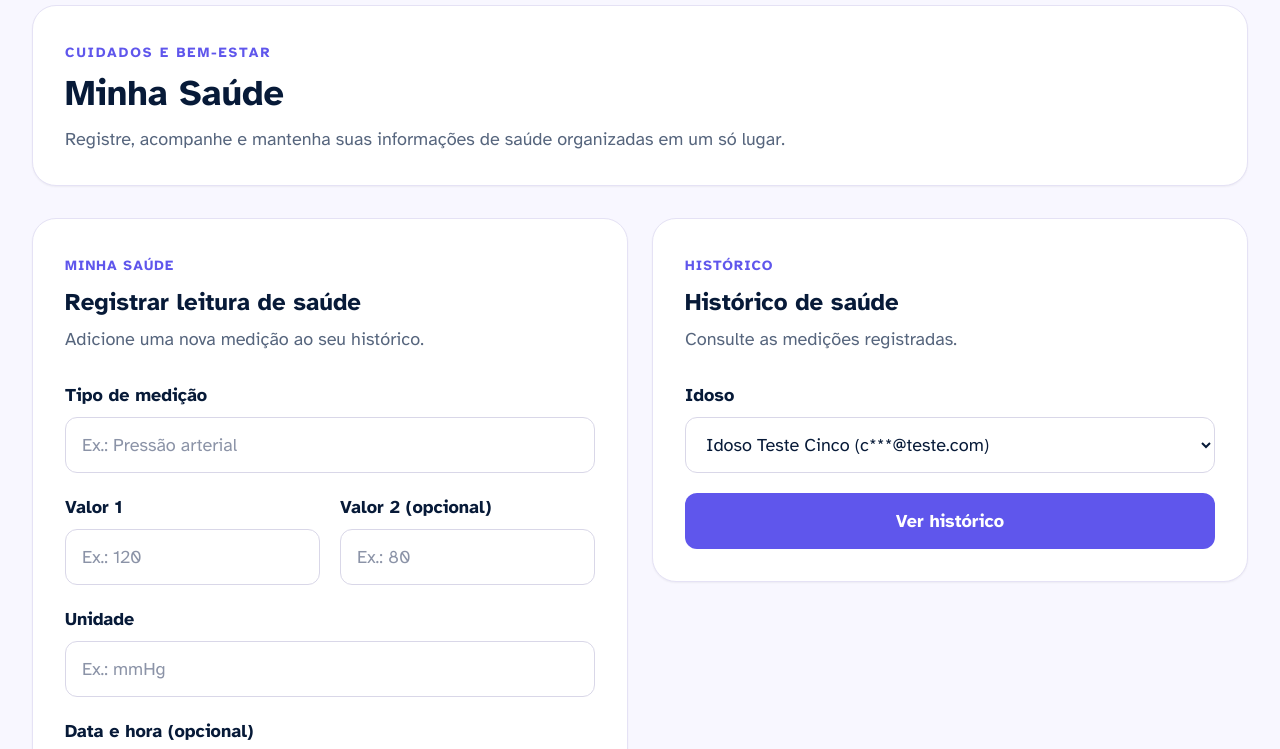
Scenario: Saude — acessibilidade do registro próprio › exibe erro com role alert
The image size is (1280, 749).
Type "peso" into the field labelled "Tipo de medição" at {"x": 330, "y": 445}, box [65,417,595,473]
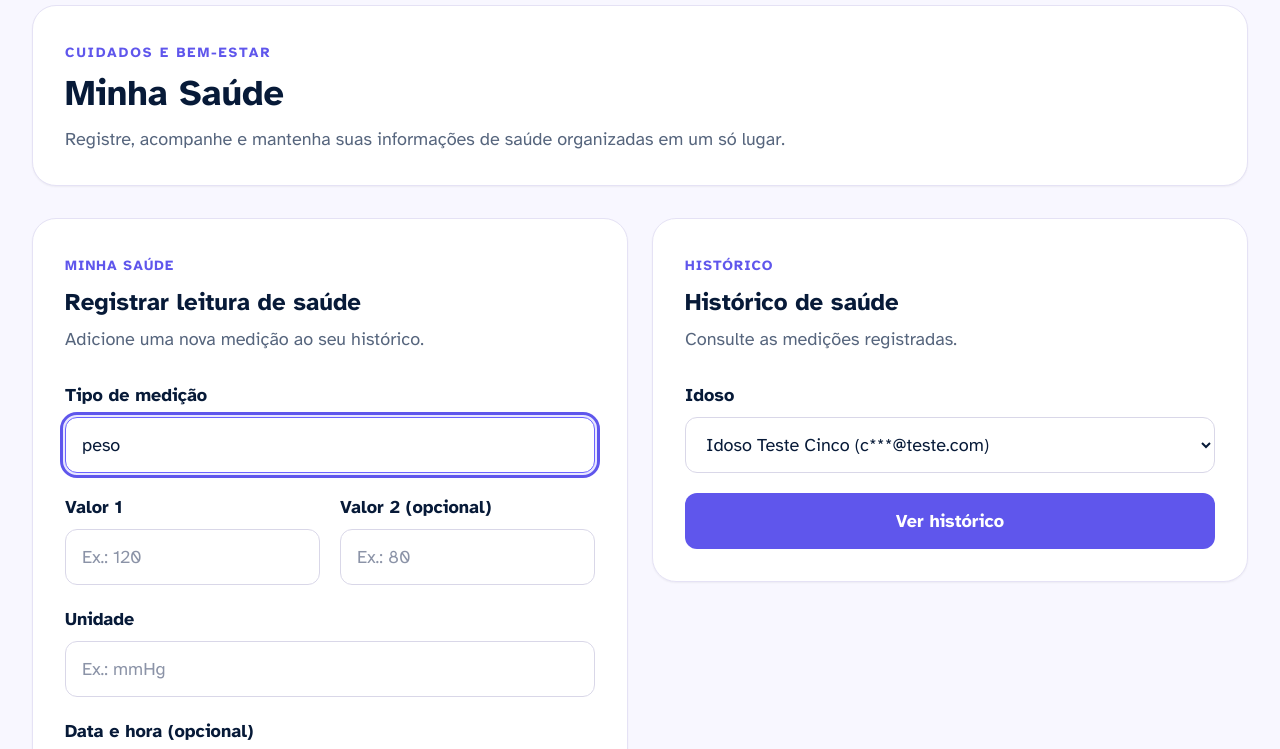
Type "70" into the number field labelled "Valor 1" at {"x": 192, "y": 557}, box [65,529,320,585]
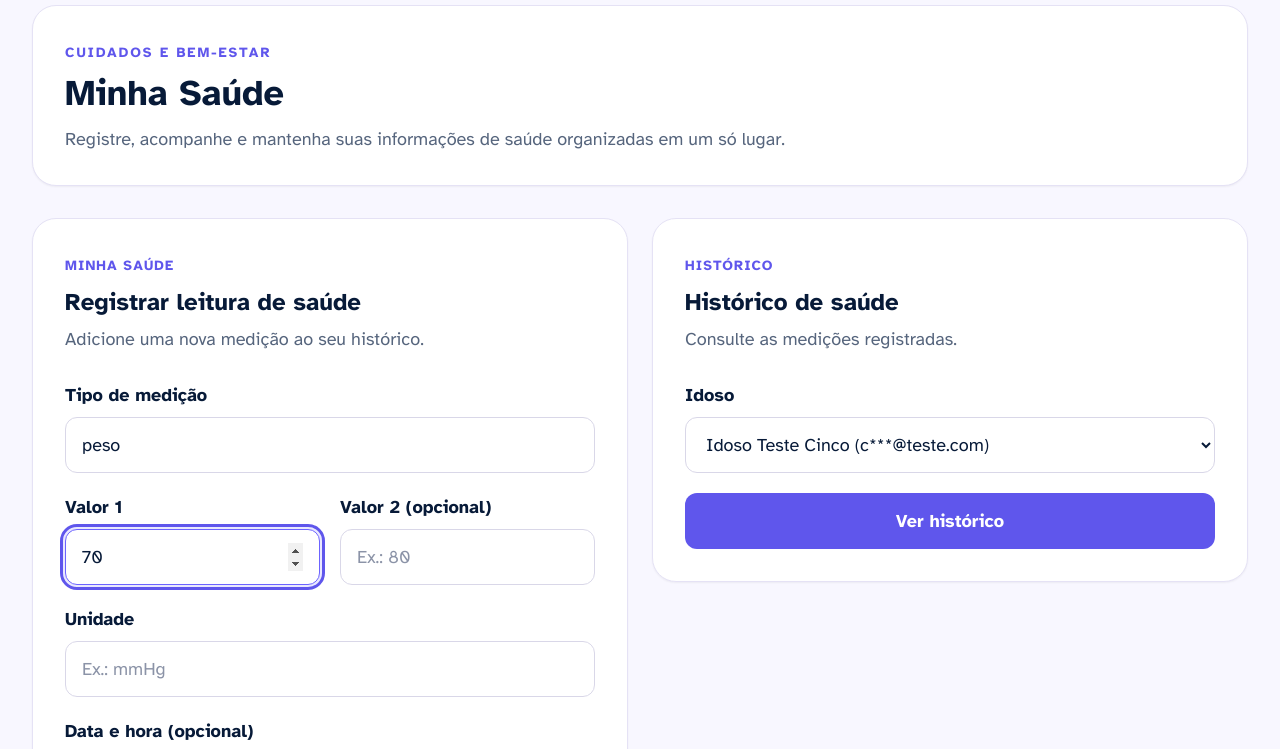
Type "kg" into the field labelled "Unidade" at {"x": 330, "y": 669}, box [65,641,595,697]
(page scrolled)
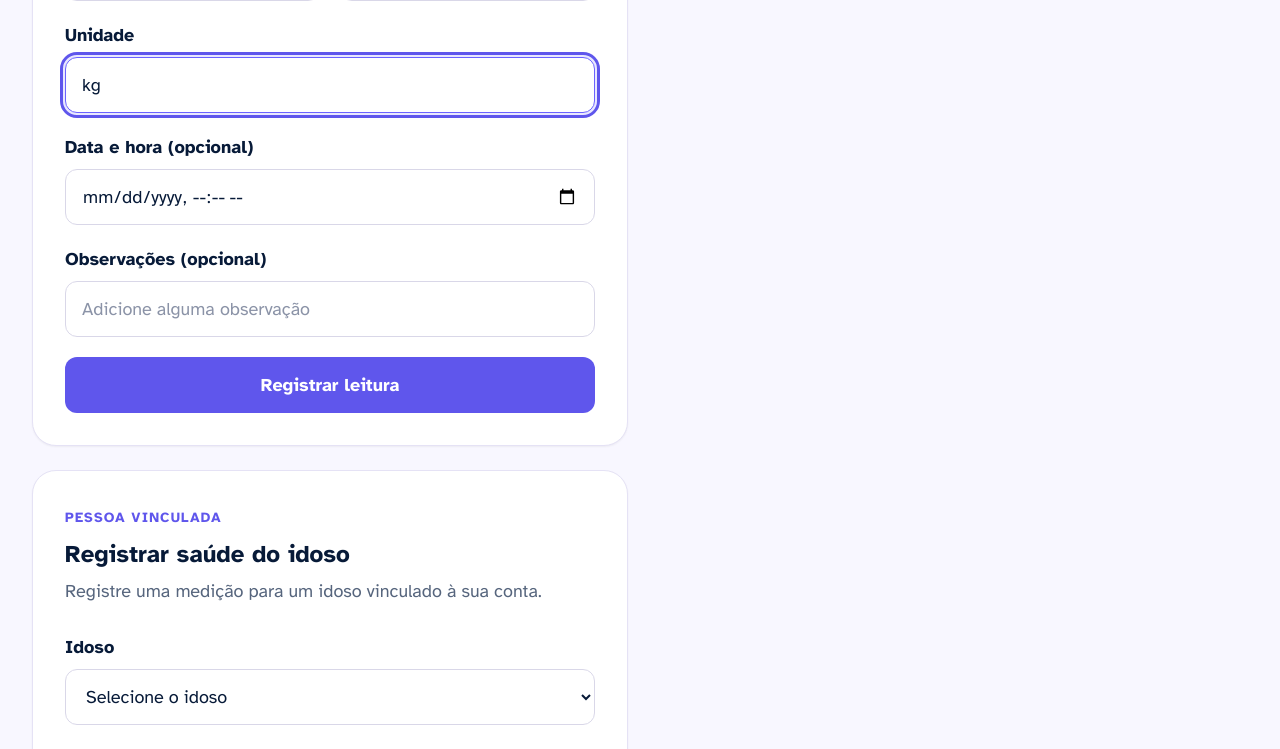
Click the button "Registrar leitura" at {"x": 330, "y": 385}, box [65,357,595,413]
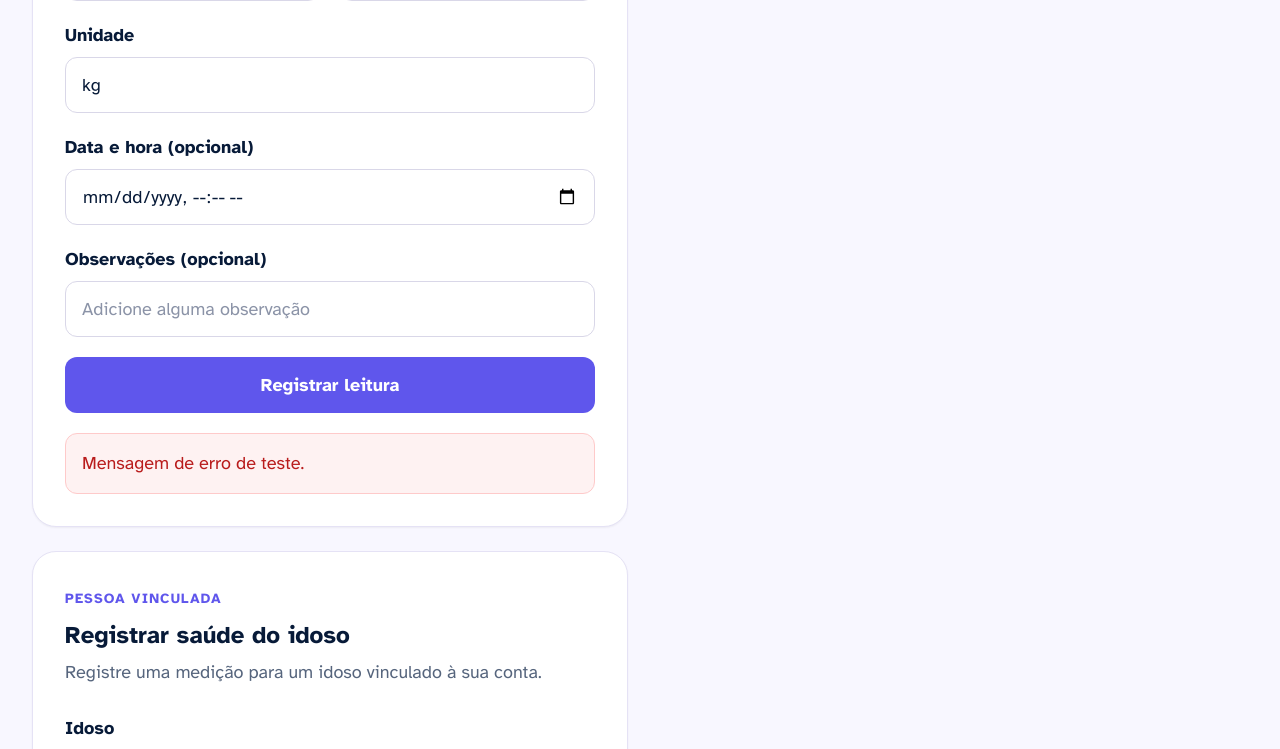
Expected: the message reads "Mensagem de erro de teste.", [82,452,304,474]
